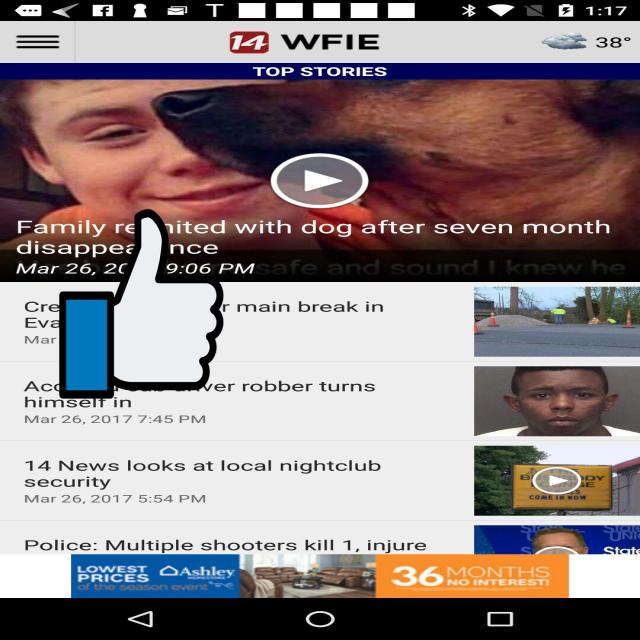privacy zuckering: (60, 205, 224, 403)
